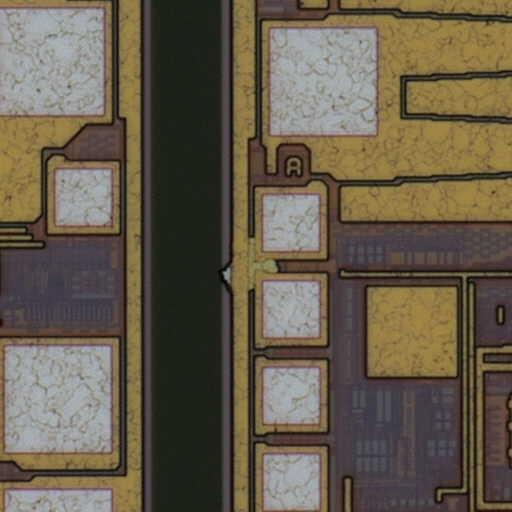BLOCK ETCH: (213, 232, 289, 311)
